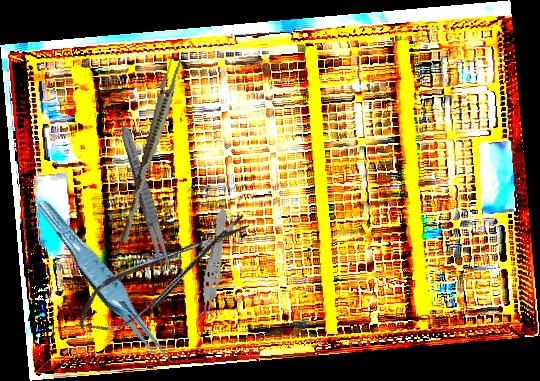Dressing Forceps: (115, 123, 179, 281)
Micro Scissor: (66, 204, 262, 345)
Tissue Forceps: (34, 189, 177, 381), (116, 54, 184, 246), (193, 207, 233, 324)
